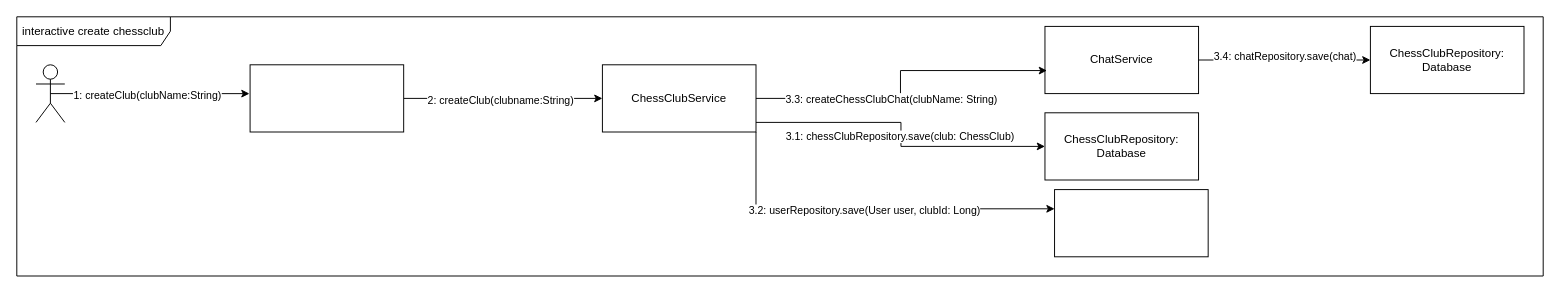
Image size: 1560x293. Some labels were removed from this diagram. The shapes that lost their labels are listed below. From the top down, each one's box as (x1, y1, x2, y2) in pixels, then its label:
(35, 64, 65, 122): User
(249, 64, 404, 132): ChessClubController
(1054, 189, 1208, 257): UserRepository: Database
